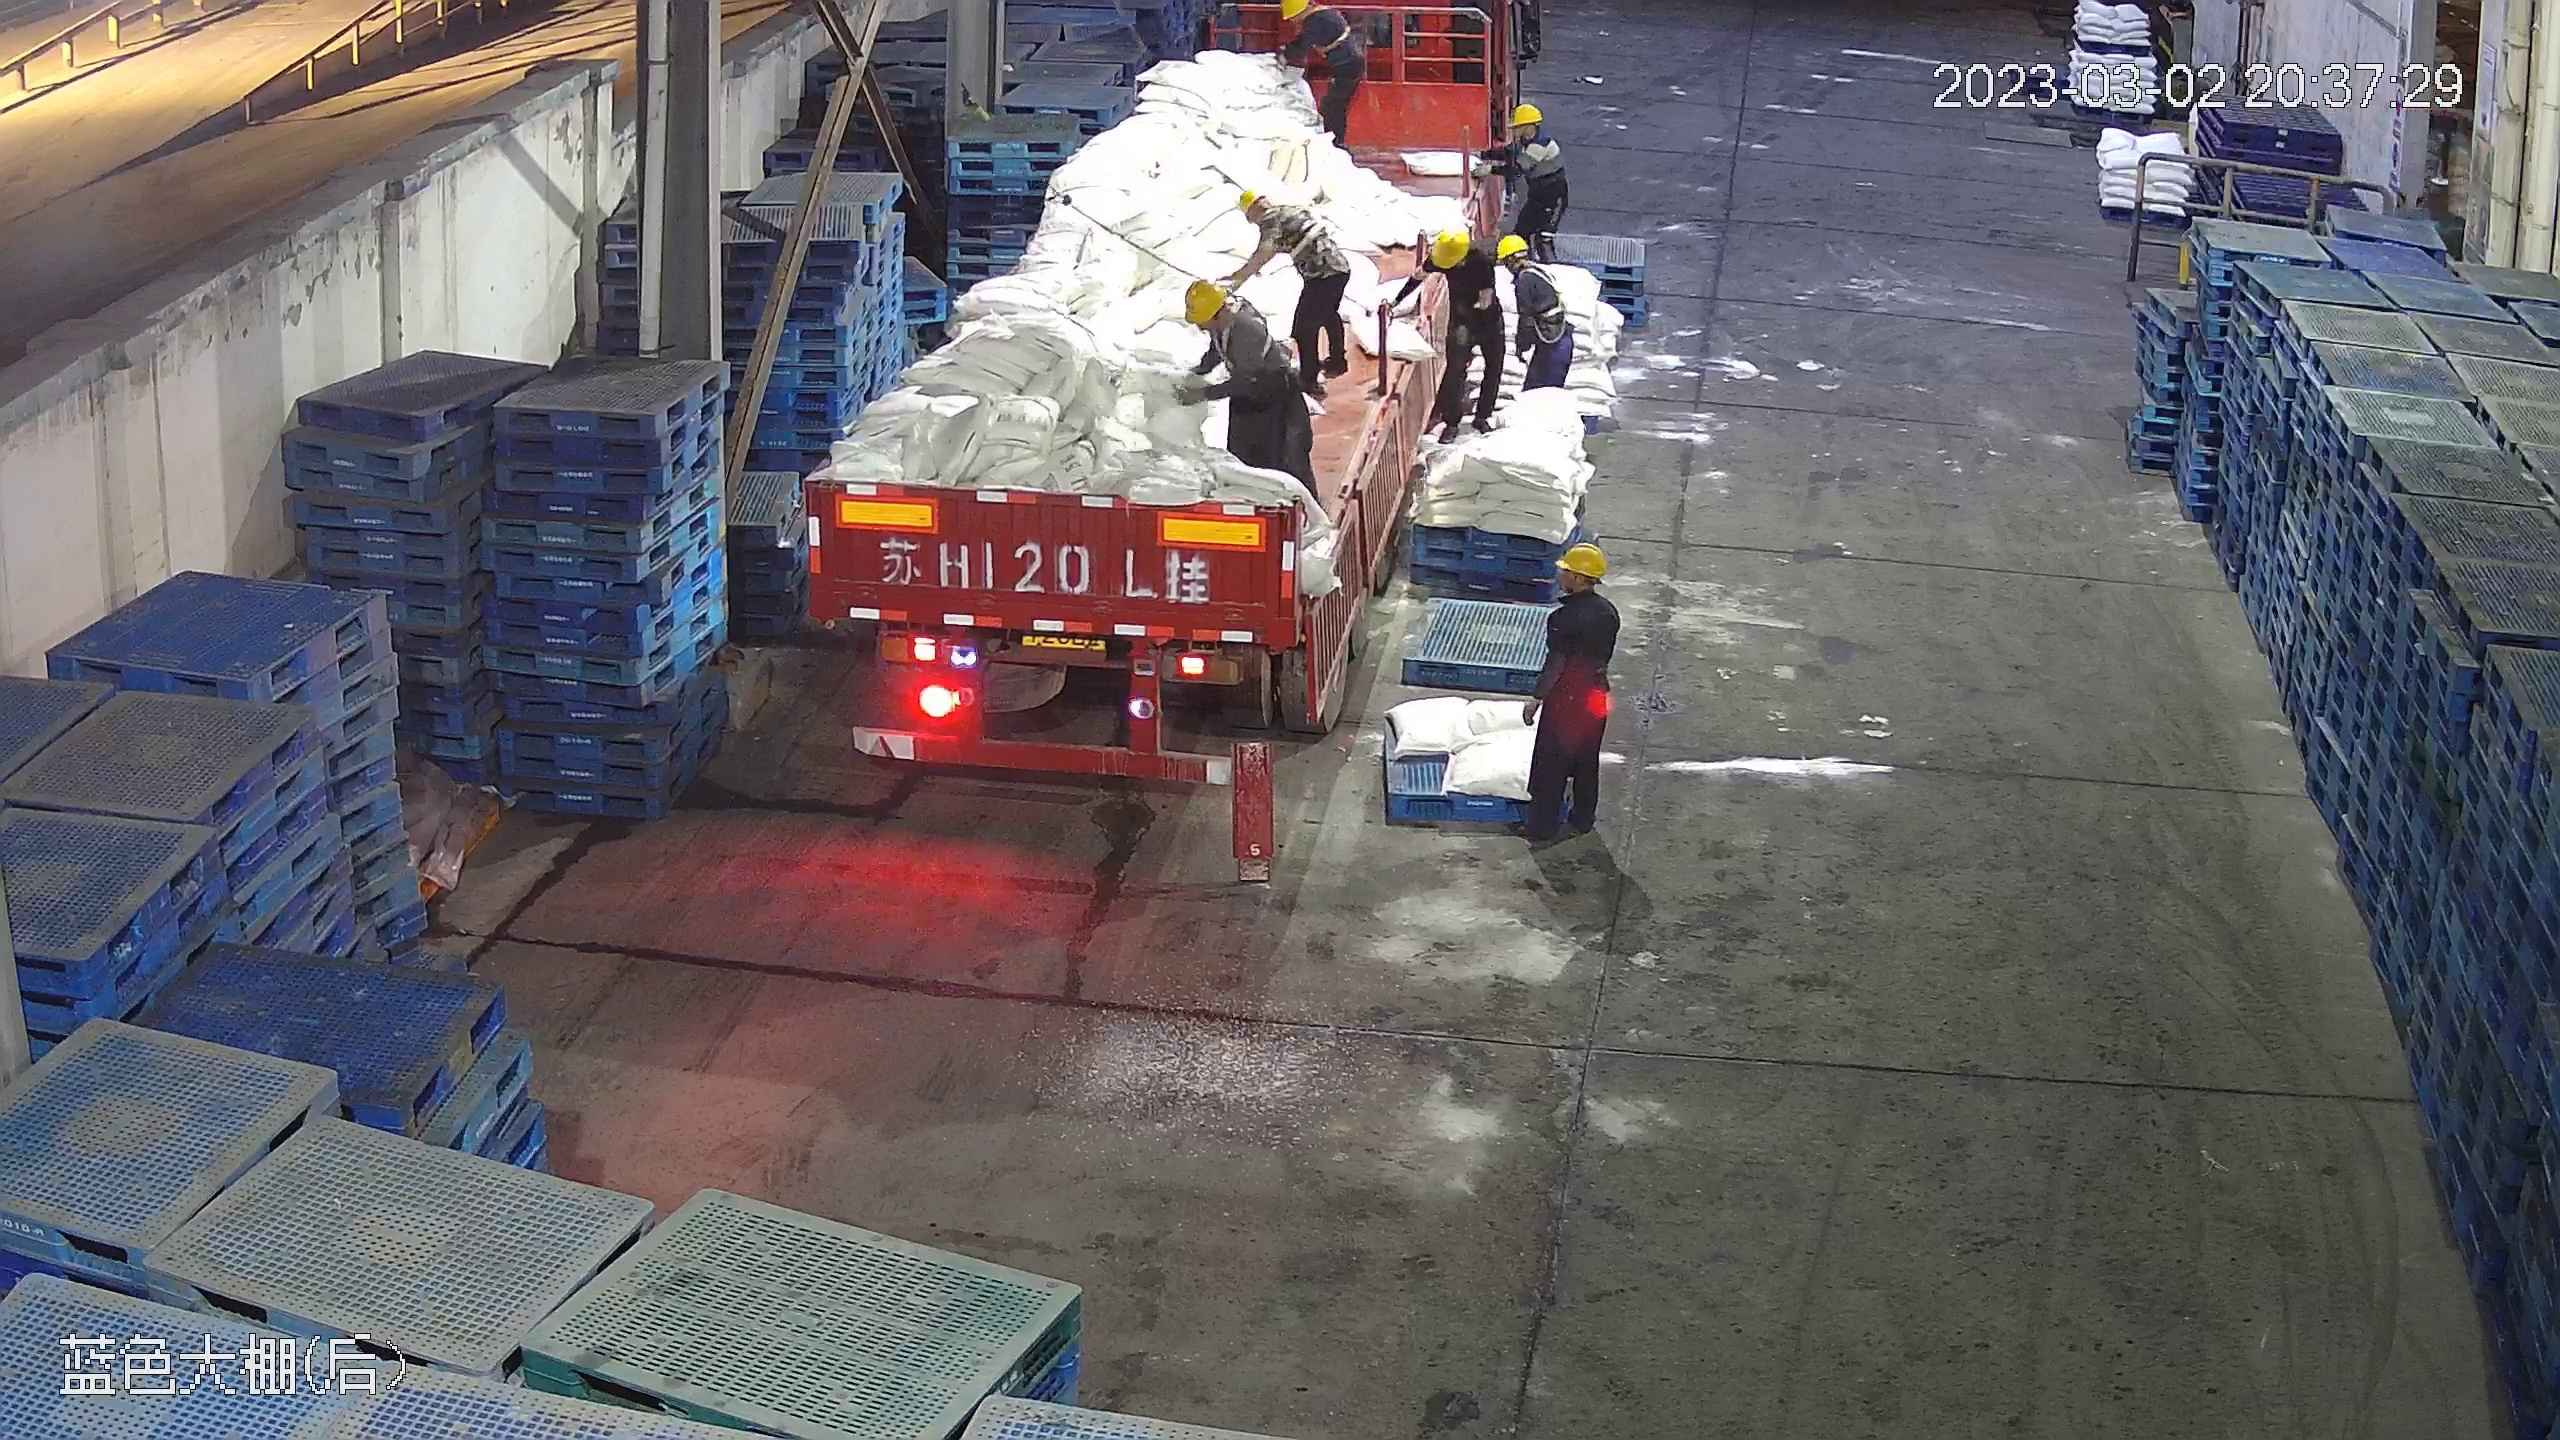belt: (1217, 299, 1291, 374), (1272, 201, 1334, 262), (1511, 263, 1567, 324), (1308, 7, 1358, 54)
head: (1542, 539, 1620, 638), (1185, 278, 1275, 363), (1417, 226, 1497, 299), (1234, 187, 1313, 251), (1497, 104, 1564, 173), (1493, 232, 1560, 302), (1274, 1, 1339, 48)
helmet: (1183, 277, 1228, 326), (1555, 542, 1607, 579), (1431, 226, 1471, 271), (1491, 233, 1537, 264), (1508, 103, 1545, 129), (1234, 188, 1265, 217), (1277, 1, 1309, 19)
people: (1524, 535, 1623, 839), (1182, 276, 1315, 484), (1227, 185, 1356, 386), (1415, 222, 1515, 437), (1491, 229, 1573, 416), (1270, 1, 1365, 158), (1486, 101, 1573, 263)
truck: (788, 5, 1510, 776)
